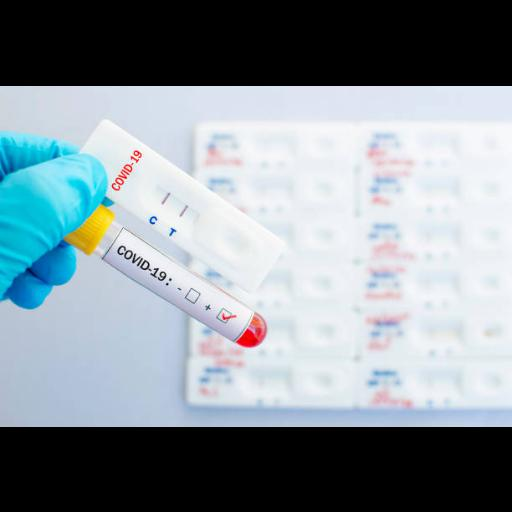Pos: (66, 118, 286, 295)
